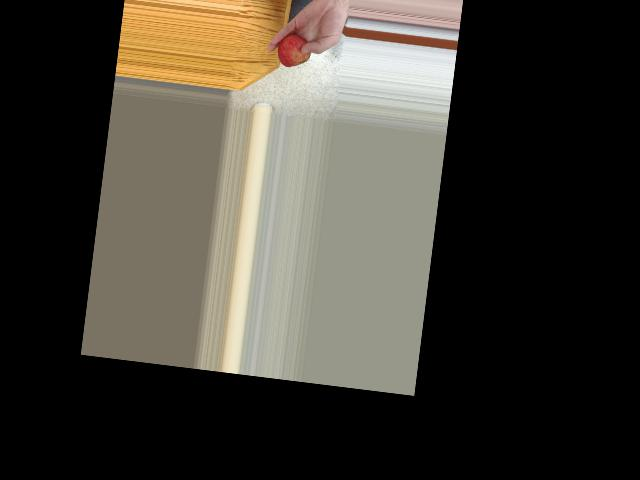apple: (275, 30, 317, 71)
